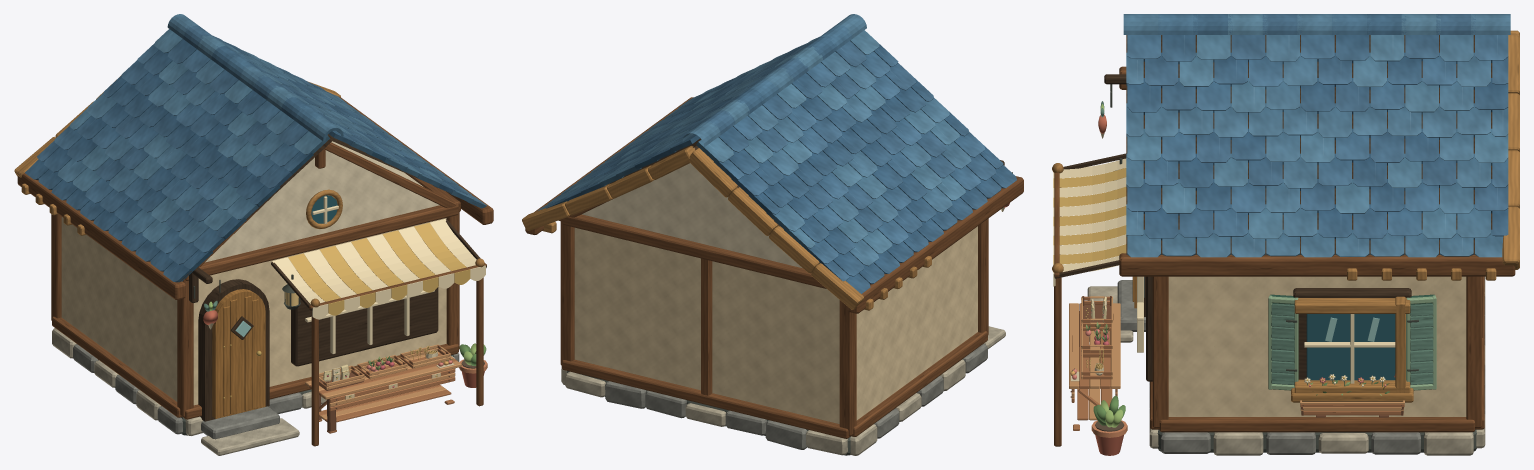
Rendered from seed_shop.glb.
3 renders of one model, left to right at view 1: azimuth 30°, elevation 25°; view 2: azimuth 150°, elevation 25°; view 3: azimuth 270°, elevation 25°, orthographic. The views are drawn at different scales.
Parts seen in each view (by area): view 1: Batch_0_0_-9223371994123205027, Batch_0_0_-9223372003719772718, Batch_0_0_-9223372003686218284, Batch_0_0_-9223372003702995501, Batch_-1_0_-9223372003686218284, Batch_0_0_-9223372003417782796, Batch_0_0_-9223372003652663834, Batch_-1_0_-9223372003635886617, Batch_0_0_-9223372003401005579, Batch_-1_0_-9223372003652663834, Batch_0_0_-9223371913710006025, Batch_0_0_-9223371913726783247 (+6 smaller); view 2: Batch_0_0_-9223371994123205027, Batch_0_0_-9223372003719772718, Batch_0_-1_-9223372003686218284, Batch_0_0_-9223372003702995501, Batch_-1_0_-9223372003686218284, Batch_-1_-1_-9223372003669441051, Batch_0_-1_-9223372003669441051, Batch_-1_-1_-9223372003686218284, Batch_-1_-1_-9223372003619109400, Batch_-1_-1_-9223372003602332183, Batch_0_-1_-9223372003619109400, Batch_0_-1_-9223372003602332183 (+2 smaller); view 3: Batch_0_0_-9223371994123205027, Batch_0_0_-9223372003719772718, Batch_0_0_-9223372003686218284, Batch_0_-1_-9223372003669441051, Batch_0_-1_-9223372003518446098, Batch_0_0_-9223372003417782796, Batch_0_0_-9223372003652663834, Batch_0_0_-9223372003401005579, Batch_0_-1_-9223372003686218284, Batch_0_0_-9223371913710006025, Batch_0_-1_-9223372003602332183, Batch_0_0_-9223371913726783247 (+15 smaller).
Boxes of the visible parts, x1,y1,x2,y2 form: Batch_0_0_-9223371994123205027: [25, 14, 486, 282]; Batch_0_0_-9223372003719772718: [61, 217, 446, 405]; Batch_0_0_-9223372003686218284: [183, 96, 493, 419]; Batch_0_0_-9223372003702995501: [205, 141, 439, 262]; Batch_-1_0_-9223372003686218284: [17, 173, 318, 446]; Batch_0_0_-9223372003417782796: [272, 196, 485, 354]; Batch_0_0_-9223372003652663834: [179, 134, 486, 366]; Batch_-1_0_-9223372003635886617: [212, 289, 265, 418]; Batch_0_0_-9223372003401005579: [288, 222, 470, 315]; Batch_-1_0_-9223372003652663834: [189, 262, 312, 421]; Batch_0_0_-9223371913710006025: [305, 344, 461, 420]; Batch_0_0_-9223371913726783247: [309, 345, 457, 422]; Batch_0_0_-9223371994123205027: [538, 14, 1016, 293]; Batch_0_0_-9223372003719772718: [574, 226, 977, 423]; Batch_0_-1_-9223372003686218284: [560, 148, 850, 438]; Batch_0_0_-9223372003702995501: [582, 147, 802, 268]; Batch_-1_0_-9223372003686218284: [847, 176, 1023, 436]; Batch_-1_-1_-9223372003669441051: [688, 148, 931, 310]; Batch_0_-1_-9223372003669441051: [522, 146, 695, 233]; Batch_-1_-1_-9223372003686218284: [839, 300, 856, 436]; Batch_-1_-1_-9223372003619109400: [725, 408, 899, 449]; Batch_-1_-1_-9223372003602332183: [806, 393, 921, 455]; Batch_0_-1_-9223372003619109400: [605, 381, 686, 418]; Batch_0_-1_-9223372003602332183: [561, 368, 725, 426]; Batch_0_0_-9223371994123205027: [1123, 14, 1510, 257]; Batch_0_0_-9223372003719772718: [1168, 276, 1466, 416]; Batch_0_0_-9223372003686218284: [1054, 172, 1515, 446]; Batch_0_-1_-9223372003669441051: [1291, 35, 1519, 402]; Batch_0_-1_-9223372003518446098: [1306, 314, 1395, 380]; Batch_0_0_-9223372003417782796: [1053, 158, 1143, 352]; Batch_0_0_-9223372003652663834: [1054, 35, 1492, 381]; Batch_0_0_-9223372003401005579: [1053, 167, 1126, 264]; Batch_0_-1_-9223372003686218284: [1466, 276, 1484, 429]; Batch_0_0_-9223371913710006025: [1069, 303, 1120, 420]; Batch_0_-1_-9223372003602332183: [1318, 345, 1485, 455]; Batch_0_0_-9223371913726783247: [1071, 303, 1117, 430].
Bounding box in the file's own units: 5.33 × 4.52 × 5.34.
Materials: 55 (11 with a texture image).
